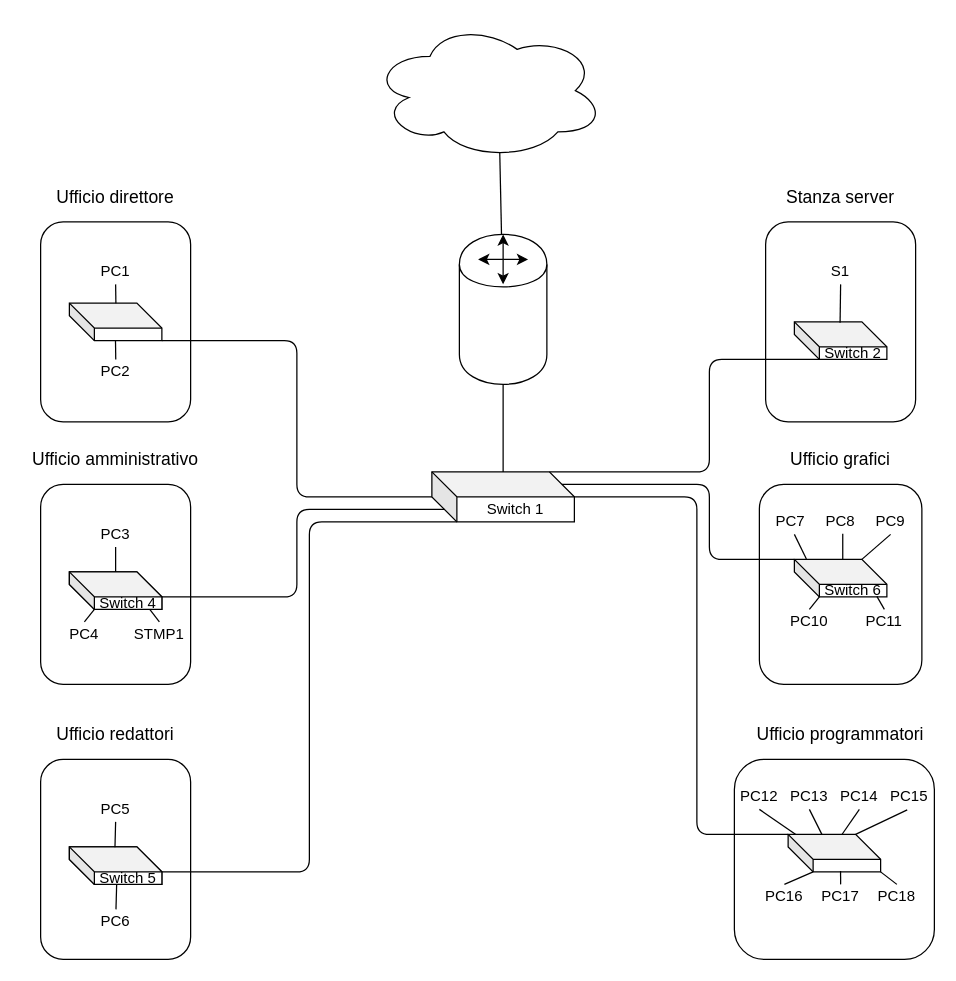
Some shapes in this 956 by 981 pixel diagram are drawn without their labels. The shapes that lost their labels are listed below. From the top down, each one's centre as x and y in pixels, then its label:
At (x=487, y=90): "Internet".
At (x=115, y=321): "Switch 3".
At (x=834, y=852): "Switch 7".
